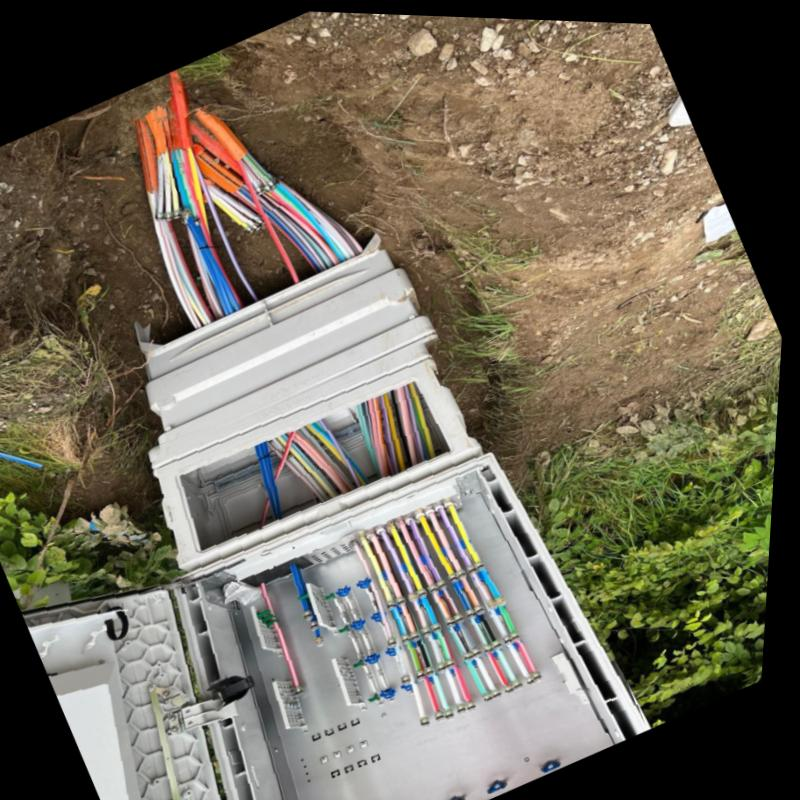NT-Gehause: (28, 337, 655, 800)
Orang-Speednetrohrchen: (192, 107, 294, 211), (137, 117, 175, 230), (148, 107, 184, 218)
